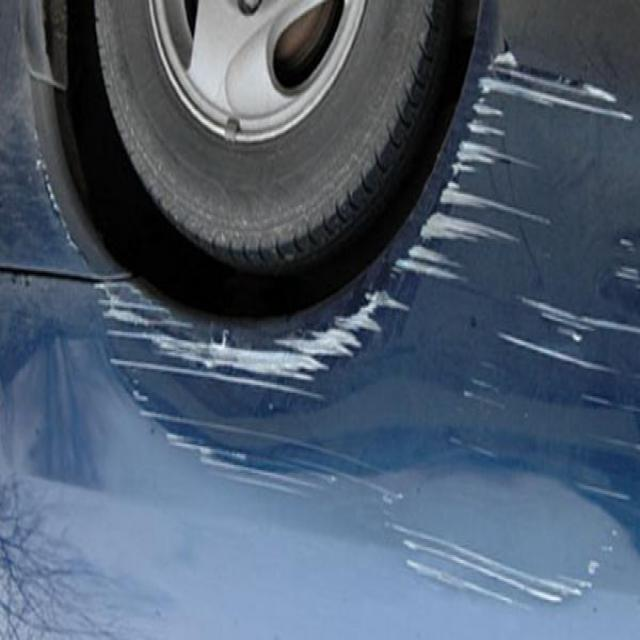scratch: (442, 47, 640, 616), (82, 243, 434, 506)
